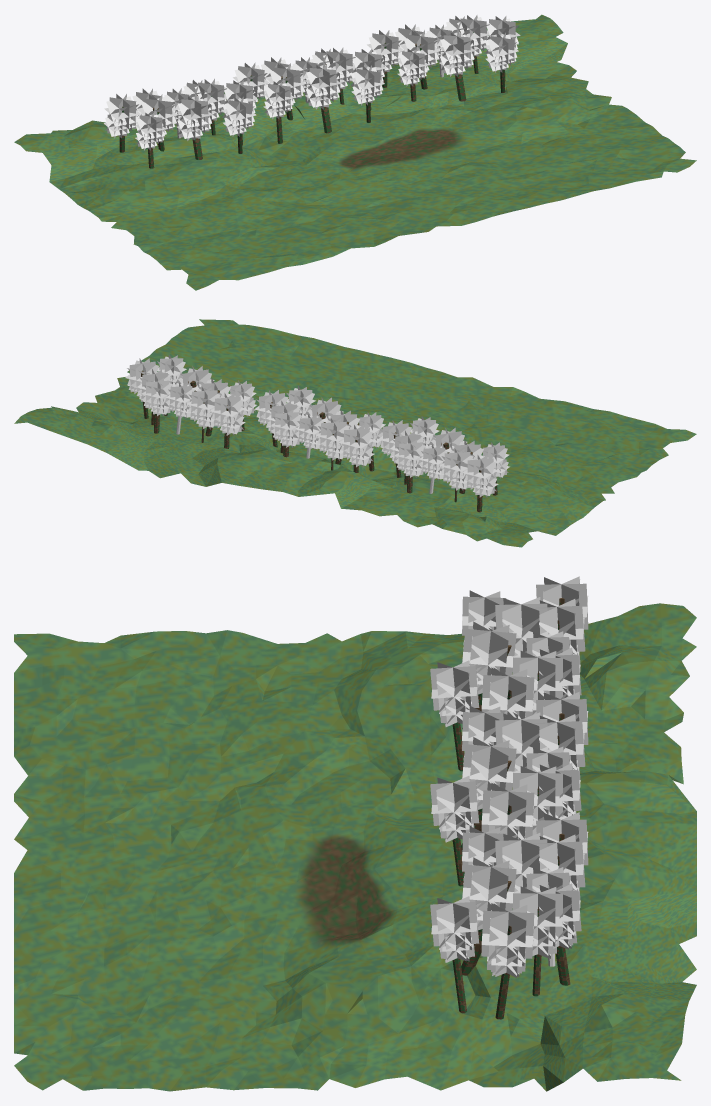
The model's file is Forest.fbx.
The picture shows the model from 3 angles, top to bottom: view 1: azimuth 30°, elevation 25°; view 2: azimuth 150°, elevation 25°; view 3: azimuth 270°, elevation 25°; orthographic projection. The views are drawn at different scales.
Visible parts, largest first — view 1: ground, treeline; view 2: ground, treeline; view 3: ground, treeline.
Part boxes in pixels (box(x1,y1,x2,y2)): ground: box(14, 14, 696, 290); treeline: box(104, 15, 520, 168); ground: box(14, 319, 696, 547); treeline: box(125, 354, 509, 512); ground: box(14, 603, 696, 1091); treeline: box(430, 576, 588, 1019).
Bounding box in the file's own units: 65.46 × 8.04 × 39.82.
